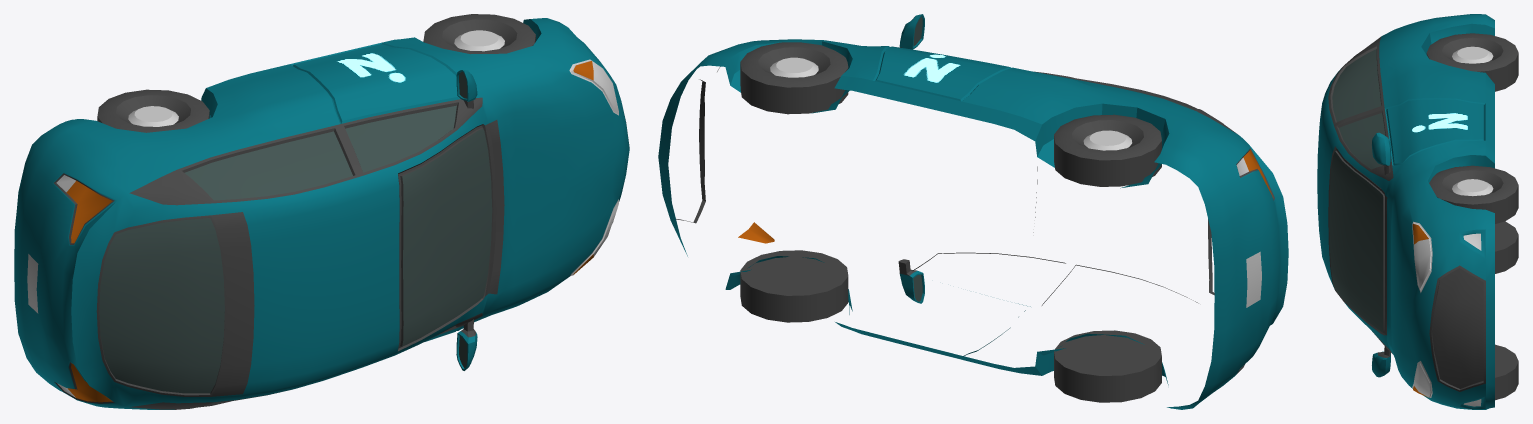
The model's file is car.glb.
3 views of the same model, side by side, from view 1: azimuth 30°, elevation 25°; view 2: azimuth 150°, elevation 25°; view 3: azimuth 270°, elevation 25° (orthographic). The views are drawn at different scales.
Visible parts, largest first — view 1: car; view 2: car; view 3: car.
Boxes of the visible parts, x1,y1,x2,y2 form: car: (14,14,629,409); car: (658,14,1288,409); car: (1317,14,1518,409).
Bounding box in the file's own units: 4.59 × 2.2 × 1.64.
